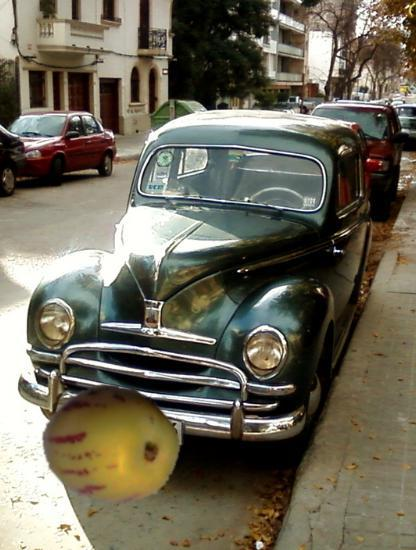Pepino: (47, 381, 178, 512)
